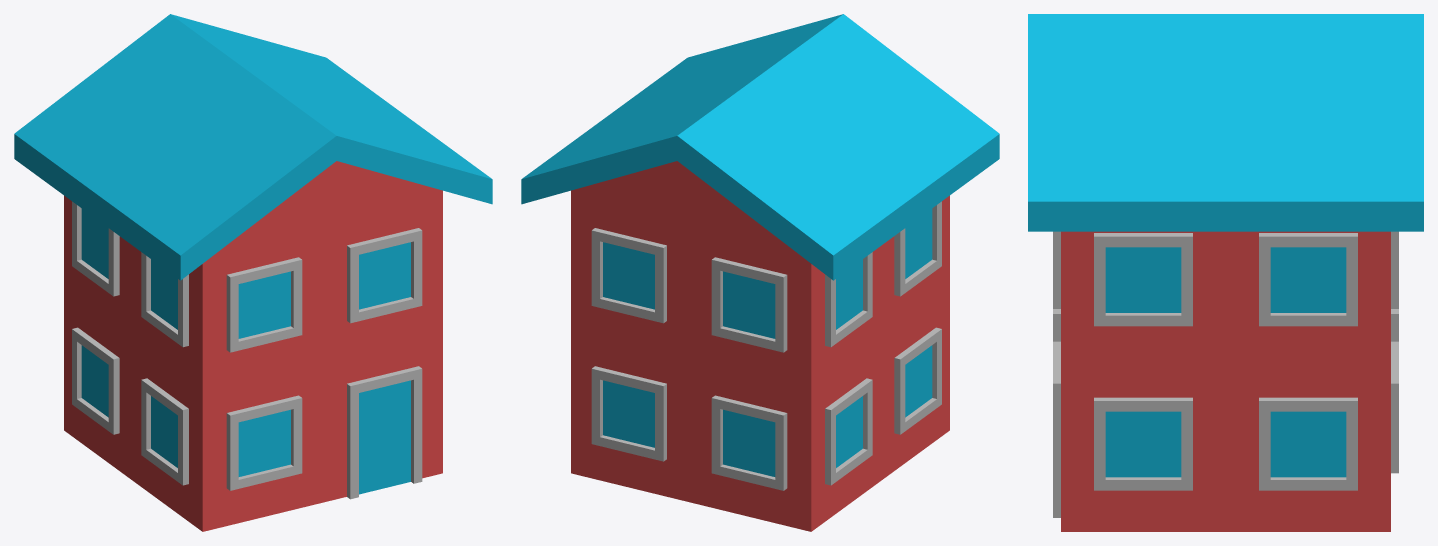
Rendered from Building1.fbx.
The picture shows the model from 3 angles, left to right: view 1: azimuth 30°, elevation 25°; view 2: azimuth 150°, elevation 25°; view 3: azimuth 270°, elevation 25°; orthographic projection. The views are drawn at different scales.
Visible parts, largest first — view 1: Building1; view 2: Building1; view 3: Building1.
Boxes of the visible parts, box(x1,y1,x2,y2) form: Building1: box(14, 14, 492, 531); Building1: box(521, 14, 999, 531); Building1: box(1028, 14, 1423, 531).
Size of the model in its own units: 260 by 300 by 240.
